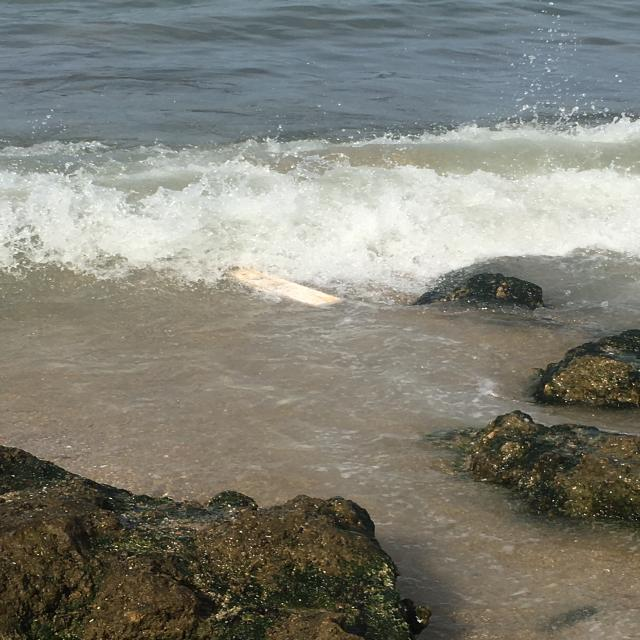Wood: (223, 264, 344, 309)
